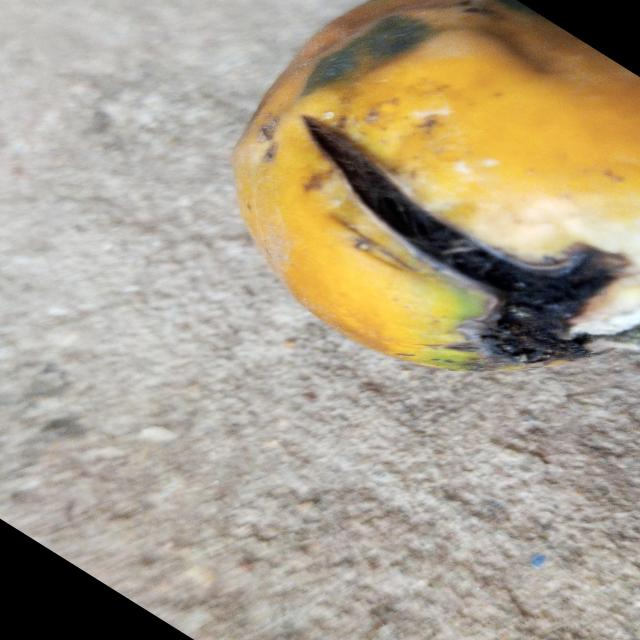damaged: (232, 0, 640, 371)
